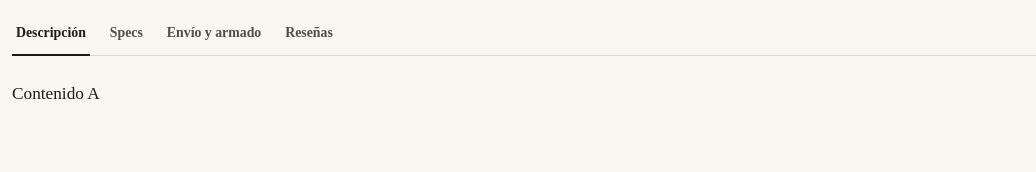
Test: Tabs › click switches the active tab and its aria-selected state
Click the tab "Reseñas". click: {"x": 309, "y": 34}
box: [281,12,337,56]
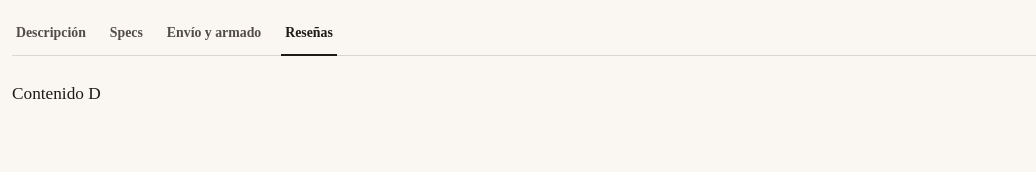
expect the text "Contenido D" is shown: met, box [12,84,101,103]
expect the text "Contenido A" is gone: met
